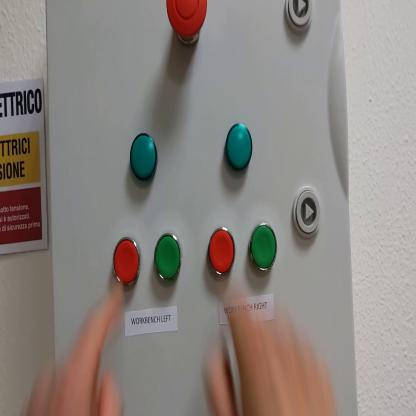hand: (204, 282, 341, 412), (25, 287, 126, 415)
left green button: (154, 234, 181, 284)
left red button: (113, 239, 141, 293)
right green button: (253, 227, 279, 272)
right red button: (209, 229, 236, 273)
